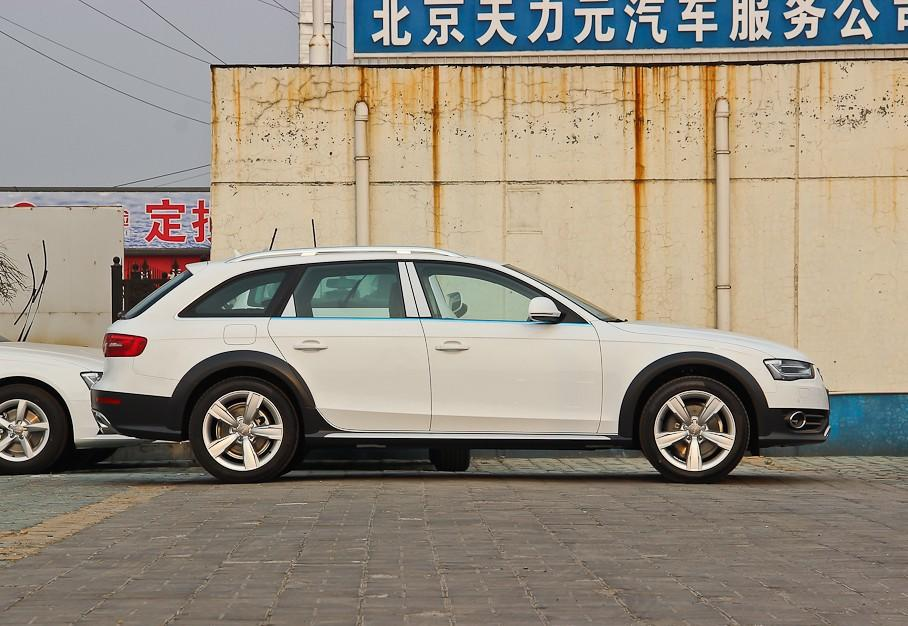Wagon: (89, 244, 831, 485)
